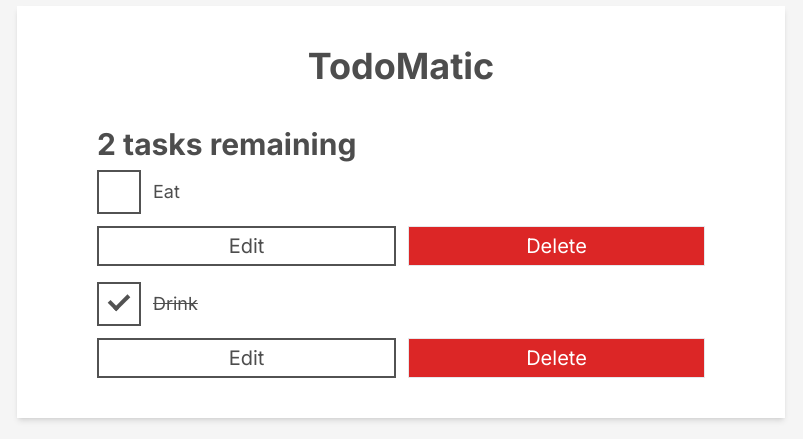
Scenario: Todo Integration test › deletes a task
Click the button "Delete" below "Drink": (556,358) [408,338,705,378]
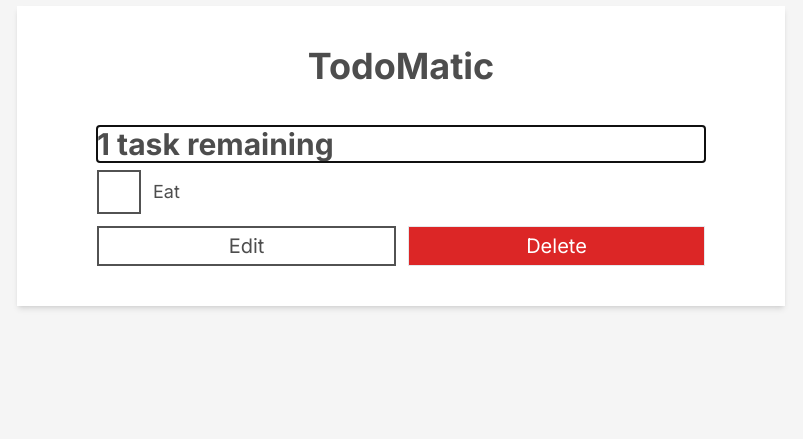
Expected: the label labelled "Drink" is gone
